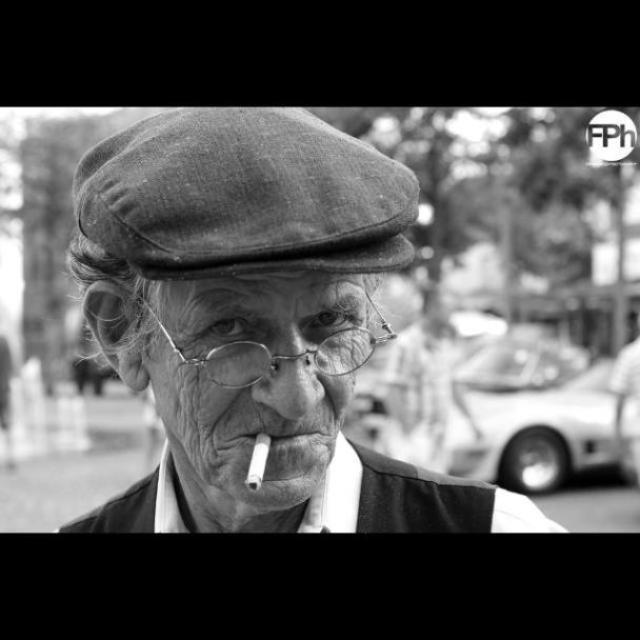rokok: (239, 427, 291, 493)
